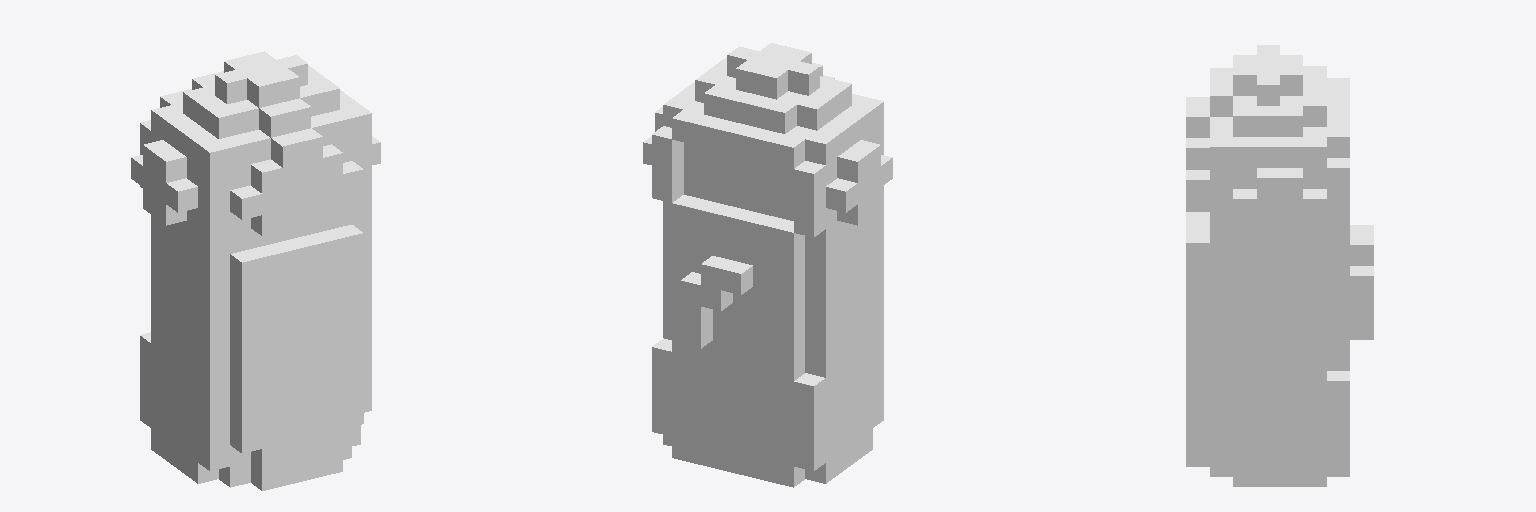
File: anim_player_snowman_body_with_head.obj
The picture shows the model from 3 angles: view 1: azimuth 30°, elevation 25°; view 2: azimuth 150°, elevation 25°; view 3: azimuth 270°, elevation 25°; orthographic projection.
Visible parts, largest first — view 1: object 1; view 2: object 1; view 3: object 1.
Boxes of the visible parts, <box> form: object 1: <box>131,51,380,490</box>; object 1: <box>643,43,892,487</box>; object 1: <box>1186,45,1373,486</box>.
Size of the model in its own units: 1 by 1.8 by 0.8.